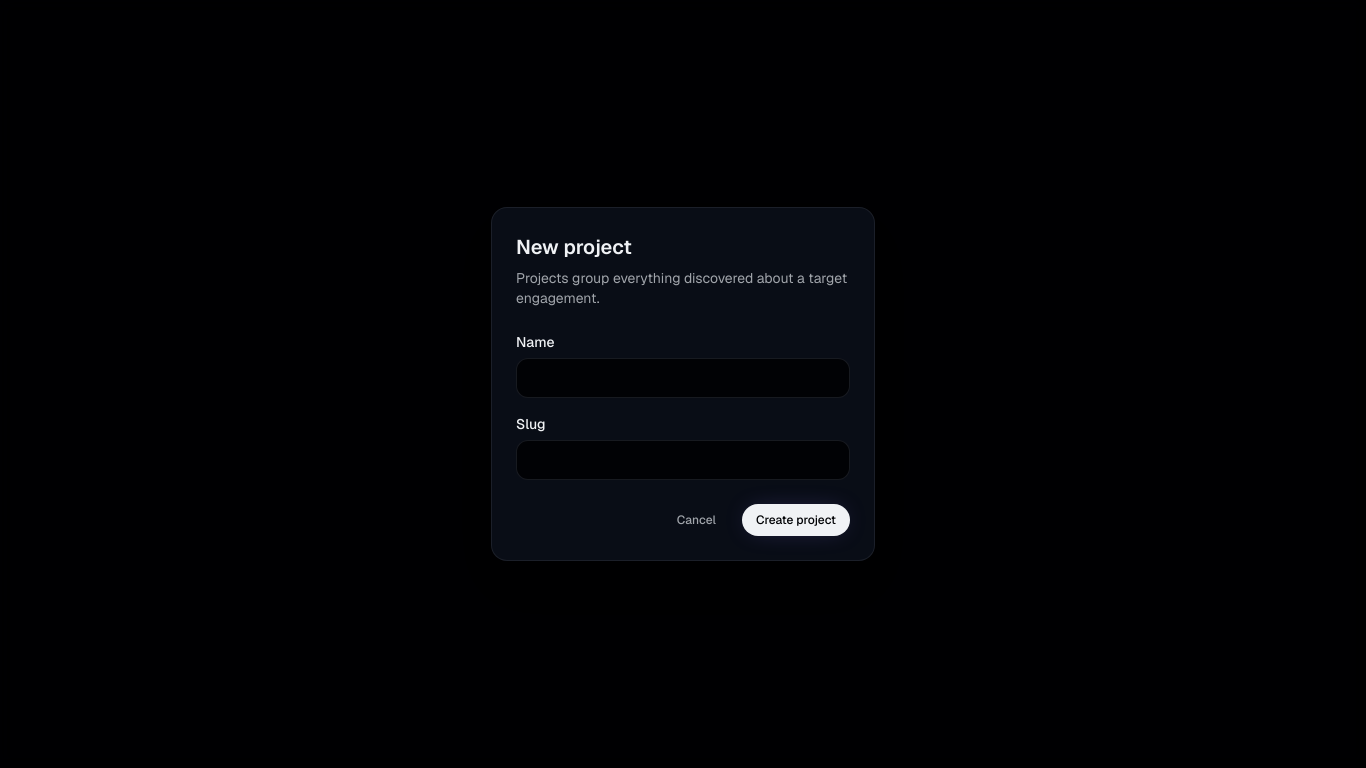
Test case: CreateProjectDialog › shows a validation error and never mutates when the name is blank
This screenshot has width=1366, height=768.
Click the button "Create project" at (796, 520), box x1=742 y1=504 x2=850 y2=536
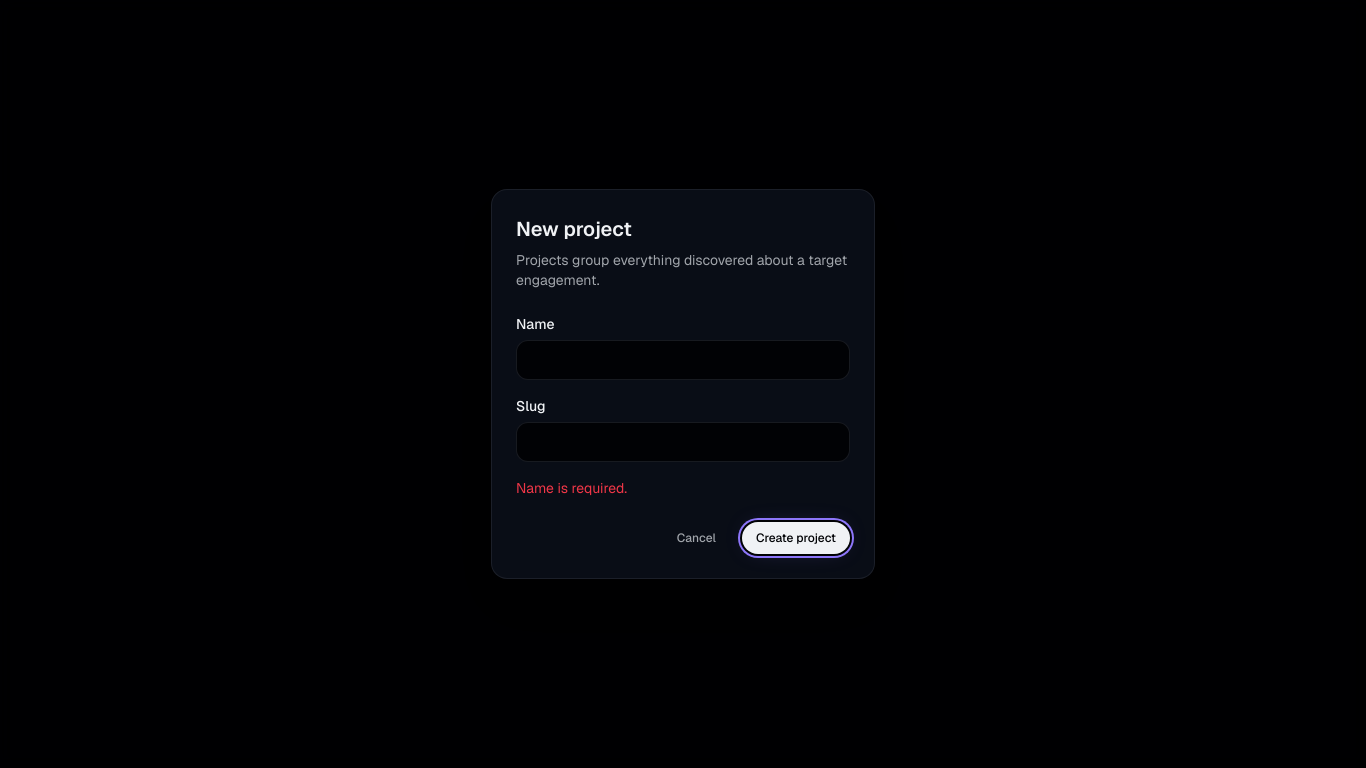
Expected: the message reads "Name is required.", x1=516 y1=478 x2=627 y2=496
